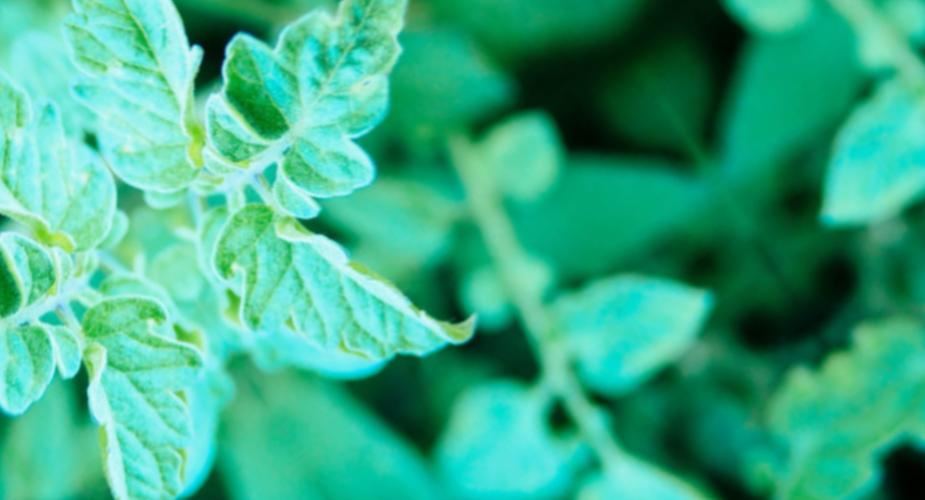Tomato leaf: (149, 106, 496, 472), (133, 0, 516, 239), (0, 0, 289, 231)
